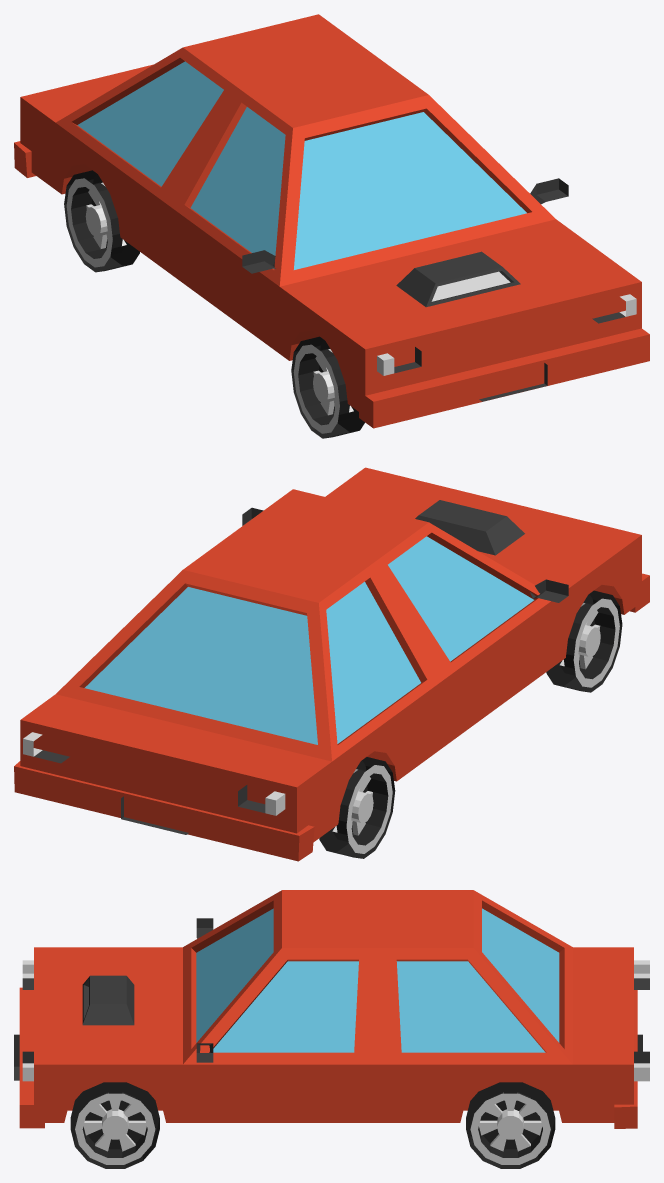
The model's file is Lancer_champ_II.glb.
The picture shows the model from 3 angles, top to bottom: view 1: azimuth 30°, elevation 25°; view 2: azimuth 150°, elevation 25°; view 3: azimuth 270°, elevation 25°; orthographic projection. The views are drawn at different scales.
Parts seen in each view (by area): view 1: Sport Car, Cylinder.001, Lamb; view 2: Sport Car, Cylinder.001, Lamb; view 3: Sport Car, Cylinder.001, Lamb.
Part boxes in pixels (x1,y1,x2,y2): Sport Car: (14,14,649,428); Cylinder.001: (64,170,364,438); Lamb: (242,178,636,401); Sport Car: (14,467,649,861); Cylinder.001: (319,590,622,858); Lamb: (23,507,568,834); Sport Car: (19,890,637,1128); Cylinder.001: (70,1082,555,1168); Lamb: (14,918,649,1081).
Bounding box in the file's own units: 2.15 × 1.42 × 4.29.
